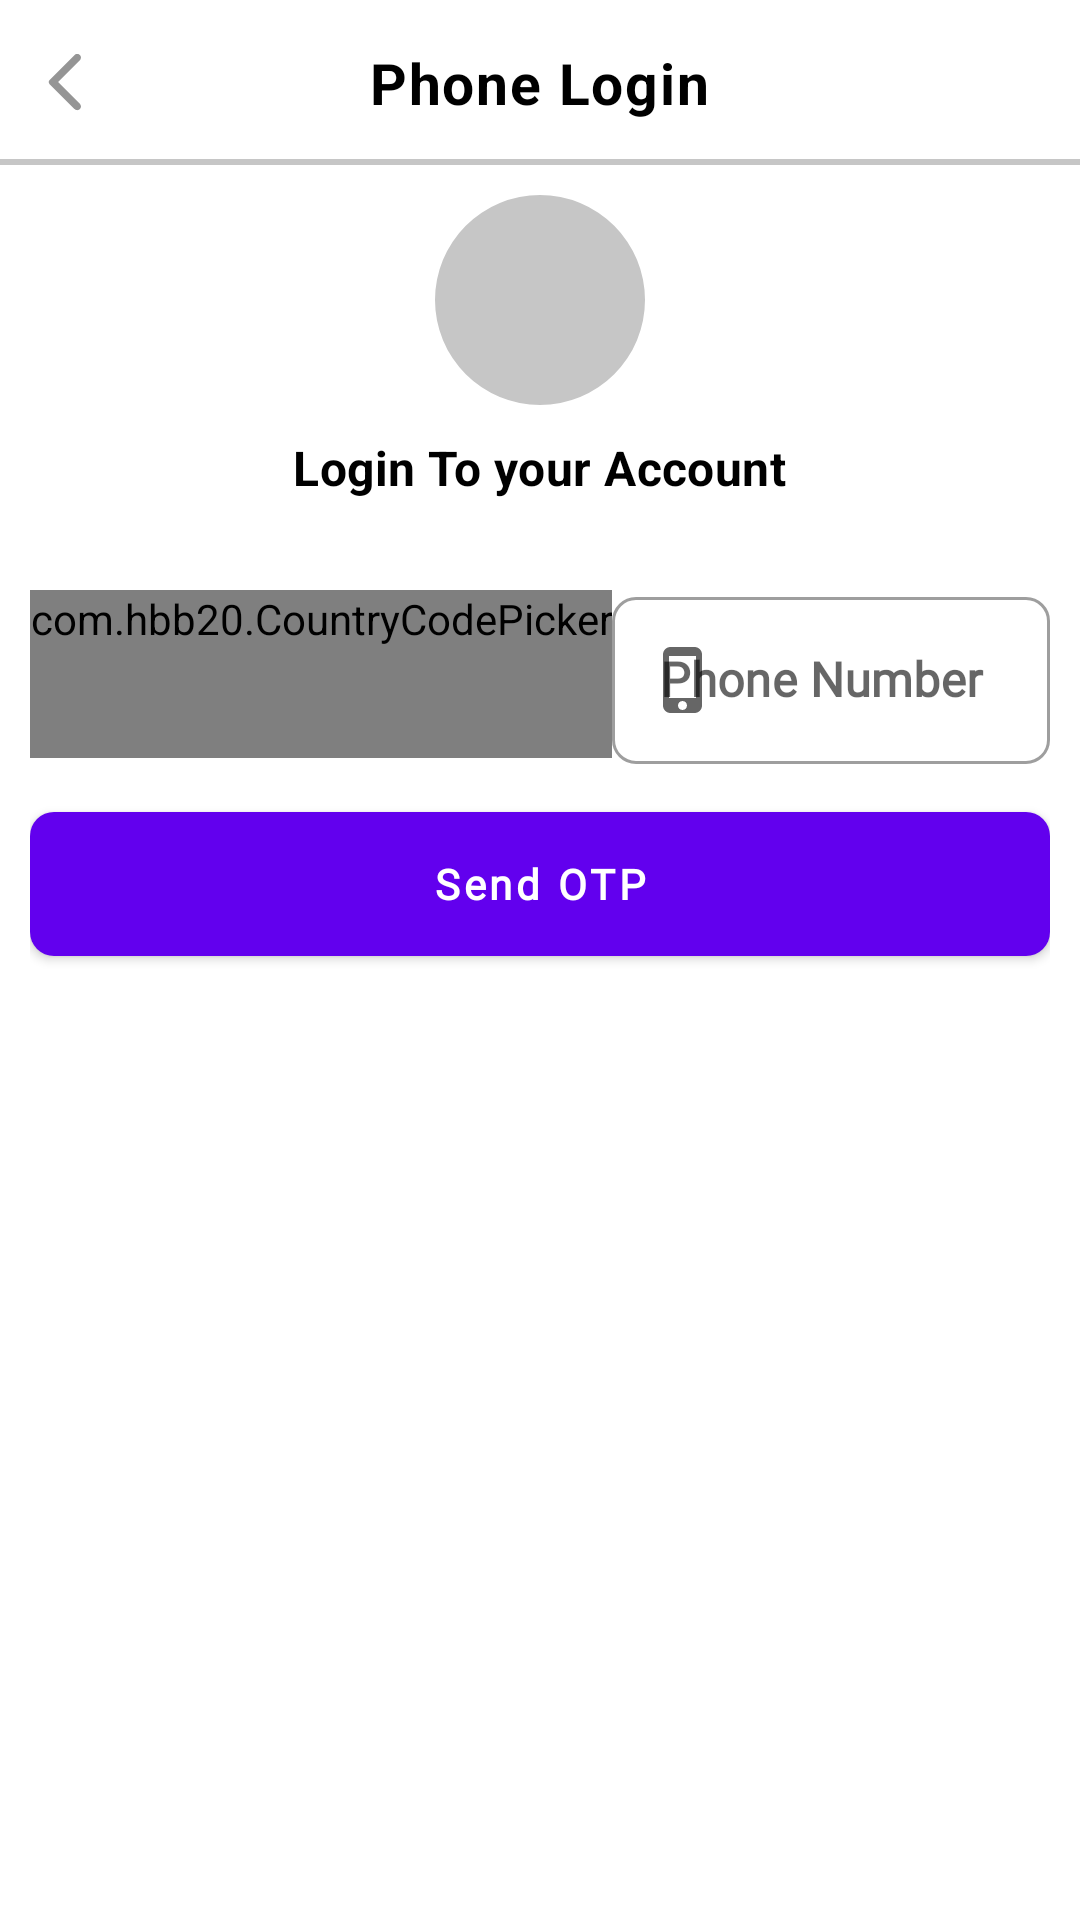

Screen size 1080w x 1920h. Icon name, then its center in pixels as [x,y]:
back: [65,82]
